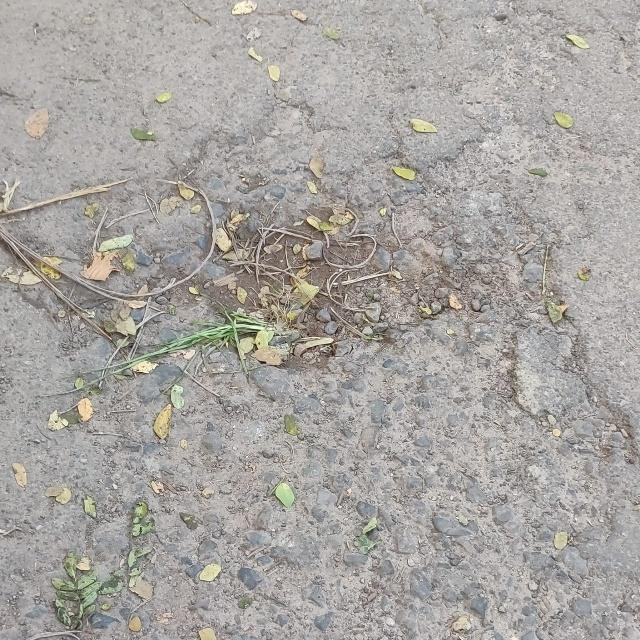Surface Erosion: (16, 169, 640, 414)
